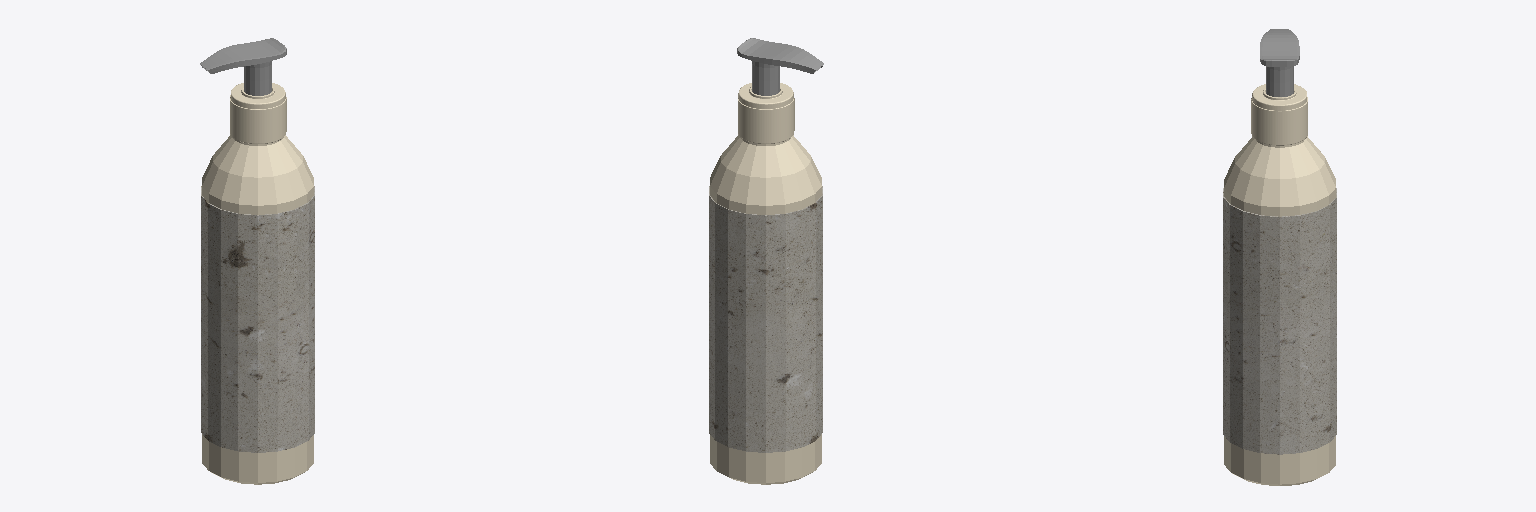
3 renders of one model, left to right at view 1: azimuth 30°, elevation 25°; view 2: azimuth 150°, elevation 25°; view 3: azimuth 270°, elevation 25°, orthographic.
Visible parts, largest first — view 1: Cylinder001, object_1, Object001, Object002; view 2: Cylinder001, object_1, Object001, Object002; view 3: Cylinder001, object_1, Object001, Object002.
Part boxes in pixels (bbox=[...]): Cylinder001: bbox=[201, 186, 314, 452]; object_1: bbox=[202, 135, 313, 484]; Object001: bbox=[230, 83, 286, 143]; Object002: bbox=[200, 38, 286, 95]; Cylinder001: bbox=[709, 186, 822, 452]; object_1: bbox=[710, 135, 821, 484]; Object001: bbox=[738, 83, 794, 143]; Object002: bbox=[737, 38, 823, 95]; Cylinder001: bbox=[1223, 188, 1336, 454]; object_1: bbox=[1224, 136, 1335, 485]; Object001: bbox=[1251, 84, 1307, 145]; Object002: bbox=[1260, 29, 1299, 96].
Bounding box in the file's own units: 0.6146 × 2.33 × 0.5792.
3 materials, 1 textured.